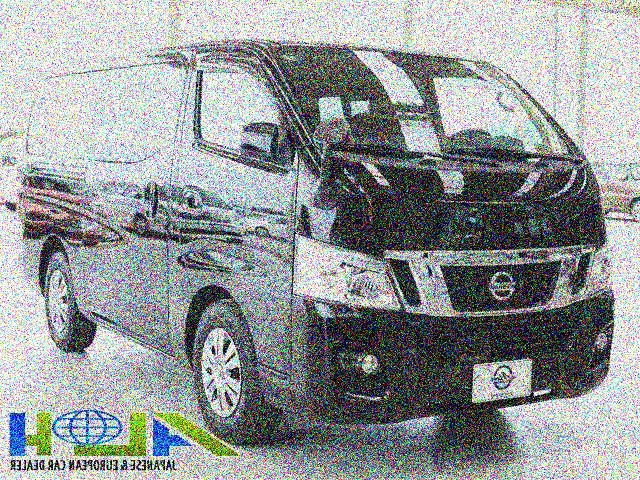van: (27, 30, 616, 426)
